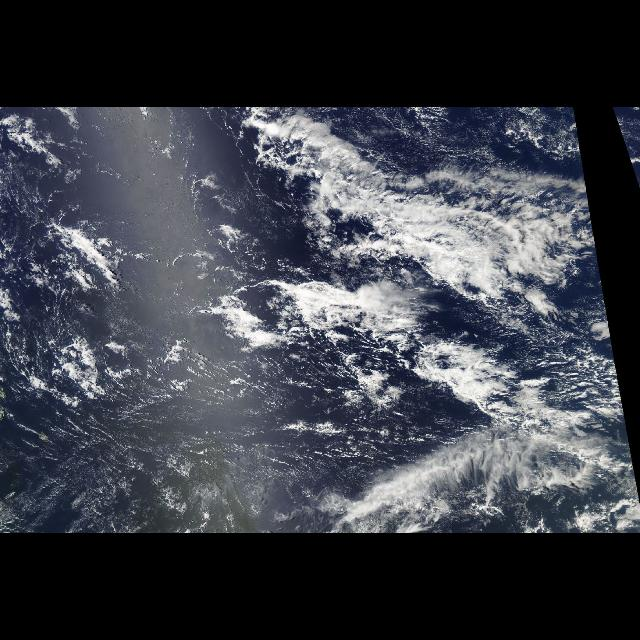Fish: (244, 109, 586, 327), (335, 439, 619, 525)
Sugar: (9, 368, 369, 530)
